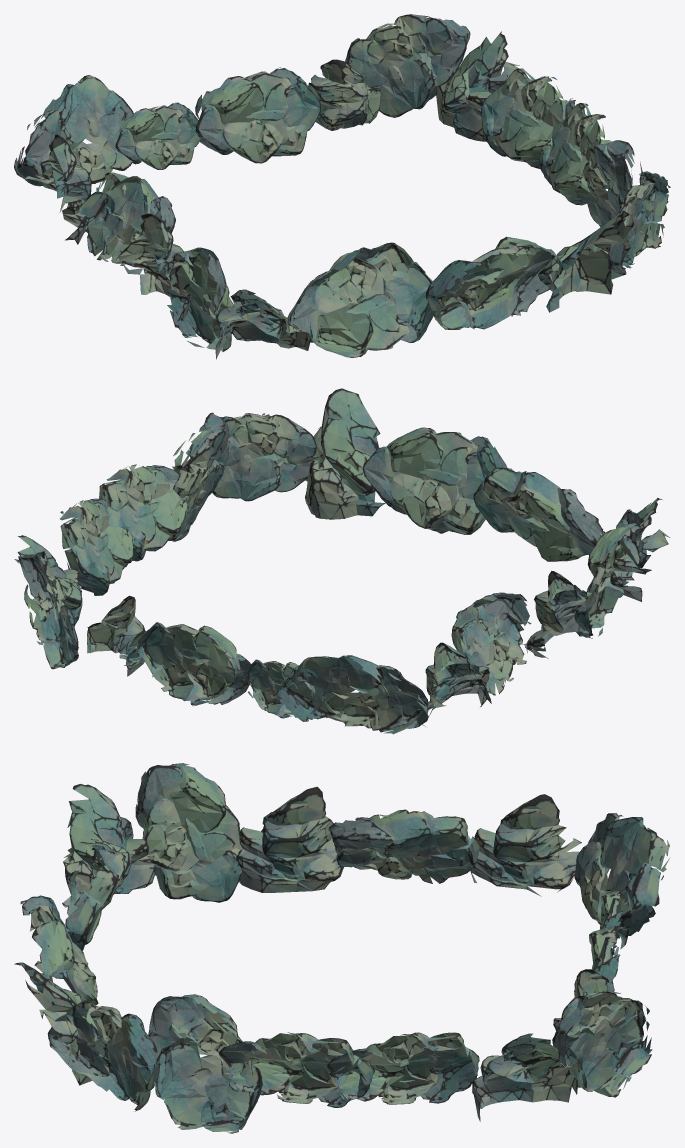
The model's file is Terrain01_Rock.fbx.
3 views of the same model, one above another, from view 1: azimuth 30°, elevation 25°; view 2: azimuth 150°, elevation 25°; view 3: azimuth 270°, elevation 25° (orthographic). The views are drawn at different scales.
Parts seen in each view (by area): view 1: Terrain01_Rock; view 2: Terrain01_Rock; view 3: Terrain01_Rock.
Part boxes in pixels (x1=…): Terrain01_Rock: x1=14, y1=14, x2=670, y2=359; Terrain01_Rock: x1=14, y1=388, x2=669, y2=734; Terrain01_Rock: x1=14, y1=763, x2=670, y2=1133.
Size of the model in its own units: 43565 by 9882 by 45096.
